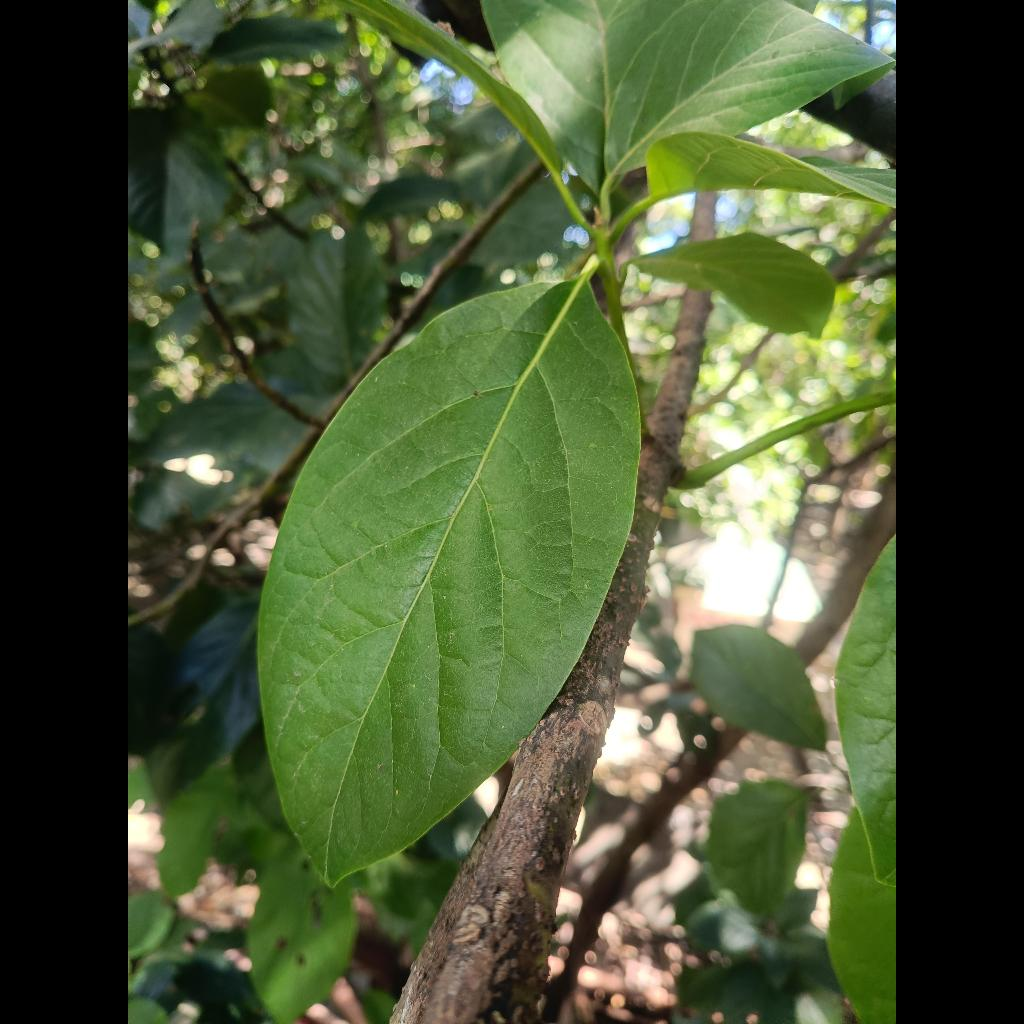Healthy: (259, 282, 640, 884)
